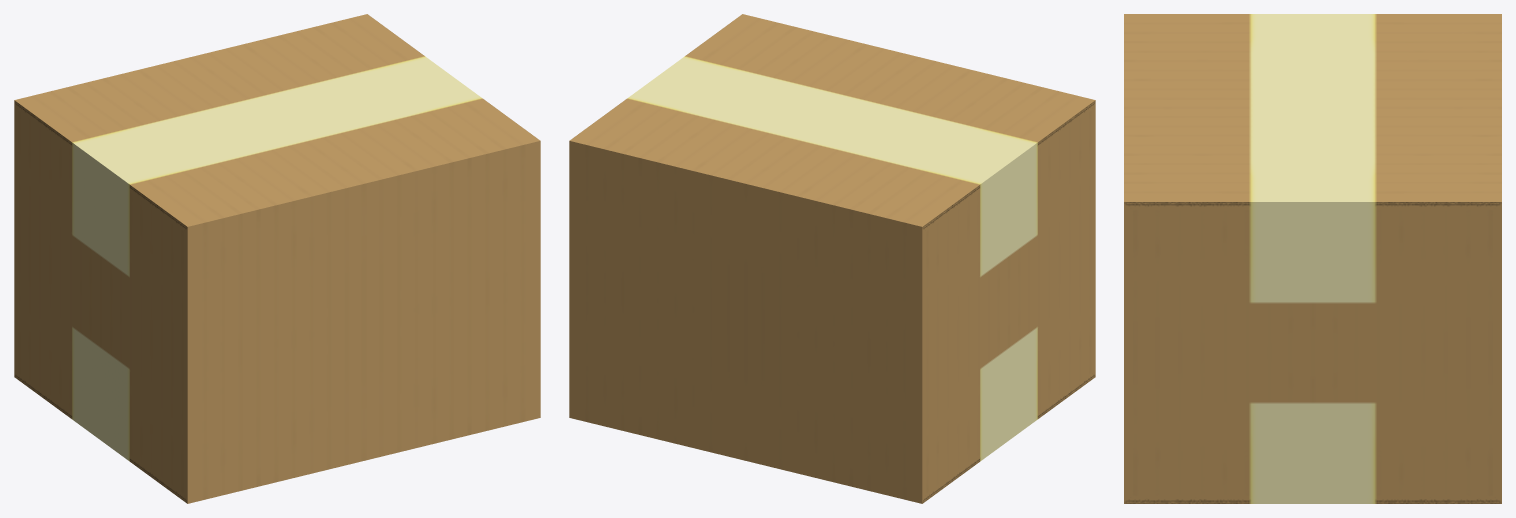
3 views of the same model, side by side, from view 1: azimuth 30°, elevation 25°; view 2: azimuth 150°, elevation 25°; view 3: azimuth 270°, elevation 25° (orthographic). The views are drawn at different scales.
Parts seen in each view (by area): view 1: Box_1; view 2: Box_1; view 3: Box_1.
Boxes of the visible parts, <box> form: Box_1: <box>14,14,540,503</box>; Box_1: <box>569,14,1095,503</box>; Box_1: <box>1124,14,1501,503</box>.
Bounding box in the file's own units: 200 × 170 × 150.
1 material, 1 textured.
